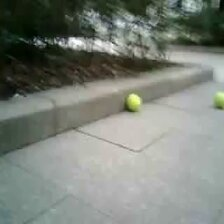tennis: (126, 93, 142, 109), (214, 90, 224, 109)
